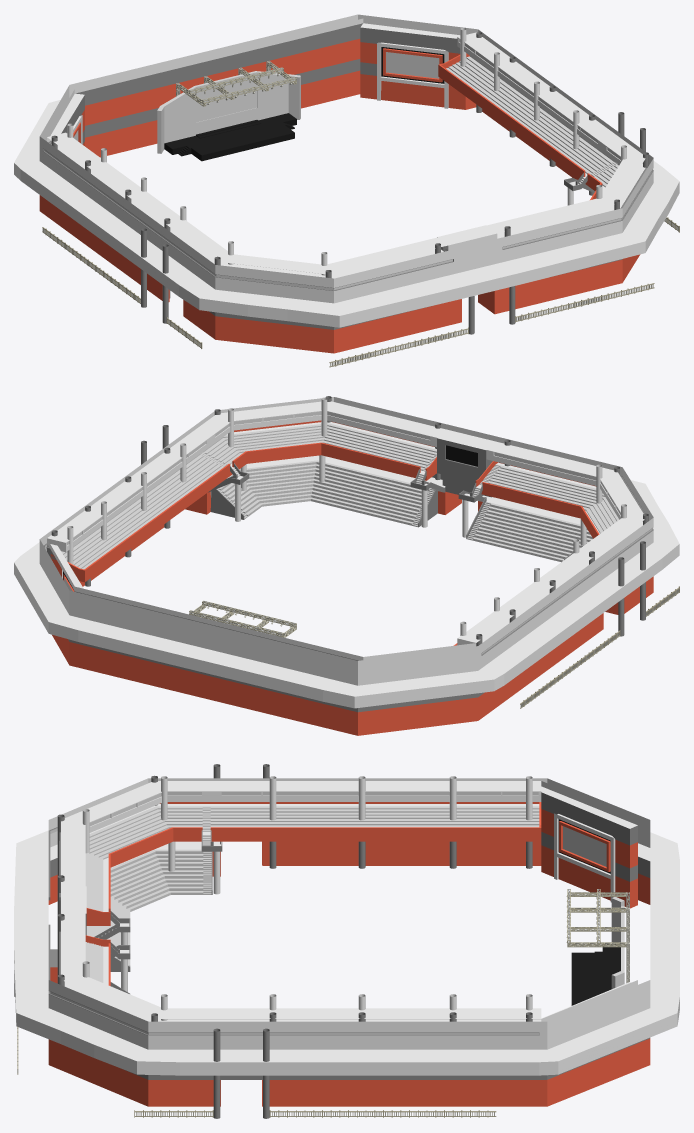
Rendered from gedung.fbx.
3 views of the same model, one above another, from view 1: azimuth 30°, elevation 25°; view 2: azimuth 150°, elevation 25°; view 3: azimuth 270°, elevation 25° (orthographic). The views are drawn at different scales.
Visible parts, largest first — view 1: bangunan.003, videotron_samping.002, panggung.005, bangku.005, pilar.002, panggung.004, bangunan.005, rig_lighting.008, rig_lighting.011; view 2: bangunan.003, bangku.004, bangku.005, pilar.002, tangga.002, rig_lighting.008, bangunan.005, videotron_samping.002; view 3: bangunan.003, bangku.005, videotron_samping.002, pilar.002, bangku.004, panggung.004, bangunan.005, tangga.002, rig_lighting.011, panggung.005.
Part boxes in pixels (x1=…): bangunan.003: x1=14, y1=14, x2=679, y2=353; videotron_samping.002: x1=48, y1=23, x2=476, y2=145; panggung.005: x1=157, y1=71, x2=300, y2=153; bangku.005: x1=446, y1=56, x2=619, y2=187; pilar.002: x1=51, y1=27, x2=648, y2=334; panggung.004: x1=164, y1=113, x2=296, y2=161; bangunan.005: x1=42, y1=217, x2=679, y2=367; rig_lighting.008: x1=189, y1=67, x2=296, y2=103; rig_lighting.011: x1=177, y1=62, x2=296, y2=106; bangunan.003: x1=14, y1=397, x2=679, y2=735; bangku.004: x1=217, y1=460, x2=592, y2=562; bangku.005: x1=61, y1=423, x2=619, y2=569; pilar.002: x1=51, y1=396, x2=648, y2=646; tangga.002: x1=208, y1=463, x2=573, y2=559; rig_lighting.008: x1=189, y1=600, x2=296, y2=636; bangunan.005: x1=520, y1=586, x2=679, y2=708; videotron_samping.002: x1=47, y1=544, x2=83, y2=591; bangunan.003: x1=14, y1=778, x2=679, y2=1106; bangku.005: x1=85, y1=806, x2=539, y2=982; videotron_samping.002: x1=541, y1=786, x2=637, y2=1018; pilar.002: x1=14, y1=764, x2=532, y2=1118; bangku.004: x1=86, y1=849, x2=211, y2=986; panggung.004: x1=571, y1=944, x2=620, y2=1005; bangunan.005: x1=17, y1=1027, x2=496, y2=1117; tangga.002: x1=94, y1=830, x2=222, y2=993; rig_lighting.011: x1=567, y1=892, x2=626, y2=947; panggung.005: x1=611, y1=897, x2=624, y2=988.
Bounding box in the file's own units: 10475 × 1794 × 10993.
